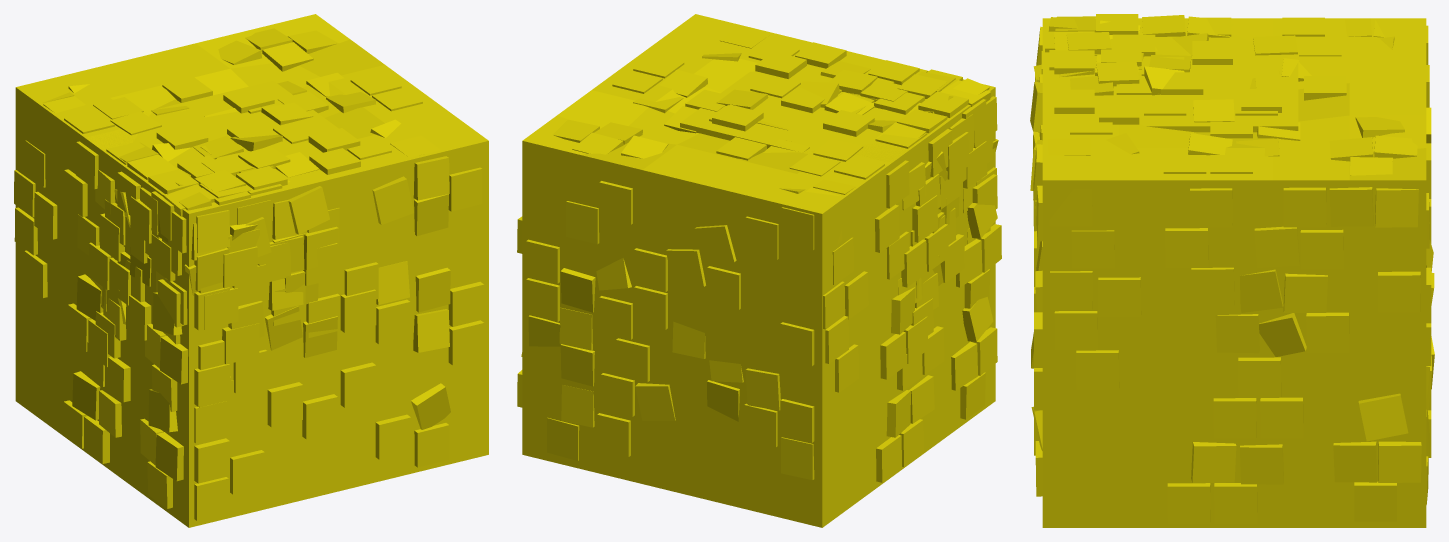
The model's file is Floors.fbx.
3 renders of one model, left to right at view 1: azimuth 30°, elevation 25°; view 2: azimuth 150°, elevation 25°; view 3: azimuth 270°, elevation 25°, orthographic. The views are drawn at different scales.
Visible parts, largest first — view 1: Cube_6x6x6, Cube_4x4x4, Cube_3x3x3, Cube_2x2x2; view 2: Cube_6x6x6, Cube_4x4x4, Cube_3x3x3, Cube_2x2x2; view 3: Cube_6x6x6, Cube_4x4x4, Cube_3x3x3, Cube_2x2x2.
Boxes of the visible parts, x1=… form: Cube_6x6x6: x1=14, y1=14, x2=488, y2=527; Cube_4x4x4: x1=67, y1=80, x2=388, y2=422; Cube_3x3x3: x1=102, y1=114, x2=338, y2=369; Cube_2x2x2: x1=130, y1=155, x2=290, y2=318; Cube_6x6x6: x1=517, y1=14, x2=997, y2=527; Cube_4x4x4: x1=680, y1=38, x2=1001, y2=380; Cube_3x3x3: x1=762, y1=60, x2=997, y2=299; Cube_2x2x2: x1=868, y1=69, x2=998, y2=224; Cube_6x6x6: x1=1030, y1=17, x2=1434, y2=527; Cube_4x4x4: x1=1036, y1=16, x2=1298, y2=261; Cube_3x3x3: x1=1030, y1=14, x2=1234, y2=226; Cube_2x2x2: x1=1036, y1=17, x2=1170, y2=81.
Bounding box in the file's own units: 644 × 621 × 633.
